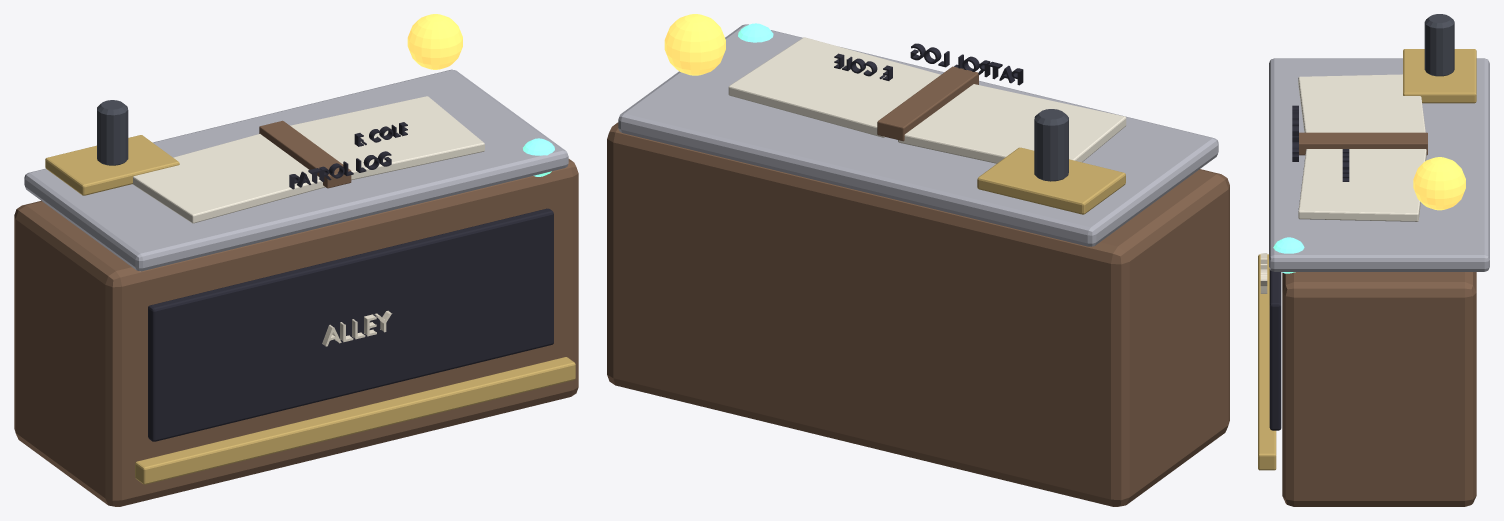
The model's file is guard-logbook.glb.
3 views of the same model, side by side, from view 1: azimuth 30°, elevation 25°; view 2: azimuth 150°, elevation 25°; view 3: azimuth 270°, elevation 25° (orthographic). The views are drawn at different scales.
Parts seen in each view (by area): view 1: guard log small oak desk, guard desk black front inset, guard desk marble writing slab, guard desk brass kick rail, open patrol log left page, open patrol log right page, patrol brass stamp pad, patrol amber desk lamp, patrol log dark spine, patrol stamp handle, patrol log header, guard desk side label; view 2: guard log small oak desk, guard desk marble writing slab, open patrol log right page, open patrol log left page, patrol brass stamp pad, patrol amber desk lamp, patrol log dark spine, patrol stamp handle, patrol log header, patrol log cole line; view 3: guard log small oak desk, guard desk marble writing slab, open patrol log right page, open patrol log left page, patrol brass stamp pad, guard desk brass kick rail, patrol log dark spine, patrol amber desk lamp, guard desk black front inset, patrol stamp handle, patrol teal ready lamp, patrol log header (+1 smaller).
Part boxes in pixels (x1,y1,x2,y2): guard log small oak desk: [14, 159, 578, 506]; guard desk black front inset: [148, 208, 553, 441]; guard desk marble writing slab: [24, 69, 568, 271]; guard desk brass kick rail: [135, 357, 575, 484]; open patrol log left page: [132, 134, 325, 223]; open patrol log right page: [290, 96, 484, 180]; patrol brass stamp pad: [45, 135, 179, 195]; patrol amber desk lamp: [407, 14, 462, 69]; patrol log dark spine: [259, 120, 351, 188]; patrol stamp handle: [97, 100, 128, 165]; patrol log header: [289, 151, 391, 189]; guard desk side label: [322, 310, 392, 346]; guard log small oak desk: [607, 122, 1229, 506]; guard desk marble writing slab: [618, 24, 1218, 246]; open patrol log right page: [728, 37, 940, 137]; open patrol log left page: [898, 84, 1126, 163]; patrol brass stamp pad: [977, 147, 1125, 214]; patrol amber desk lamp: [664, 14, 725, 75]; patrol log dark spine: [877, 66, 978, 141]; patrol stamp handle: [1034, 109, 1068, 181]; patrol log header: [910, 43, 1023, 85]; patrol log cole line: [834, 53, 892, 80]; guard log small oak desk: [1282, 272, 1476, 506]; guard desk marble writing slab: [1269, 58, 1489, 271]; open patrol log right page: [1298, 149, 1426, 221]; open patrol log left page: [1298, 74, 1425, 132]; patrol brass stamp pad: [1403, 49, 1476, 103]; guard desk brass kick rail: [1258, 254, 1276, 470]; patrol log dark spine: [1299, 132, 1427, 155]; patrol amber desk lamp: [1413, 157, 1465, 210]; guard desk black front inset: [1269, 269, 1281, 430]; patrol stamp handle: [1424, 14, 1454, 76]; patrol teal ready lamp: [1273, 237, 1304, 273]; patrol log header: [1292, 105, 1298, 161].
Size of the model in its own units: 1.55 by 1.06 by 0.6925.
